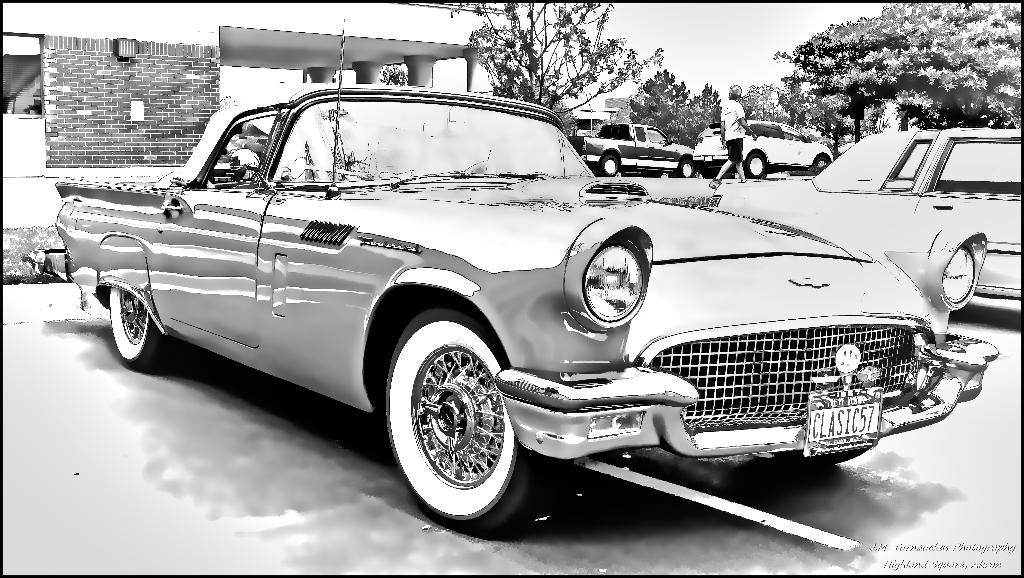Car: (52, 20, 999, 543), (705, 128, 1020, 299), (691, 121, 834, 178)
